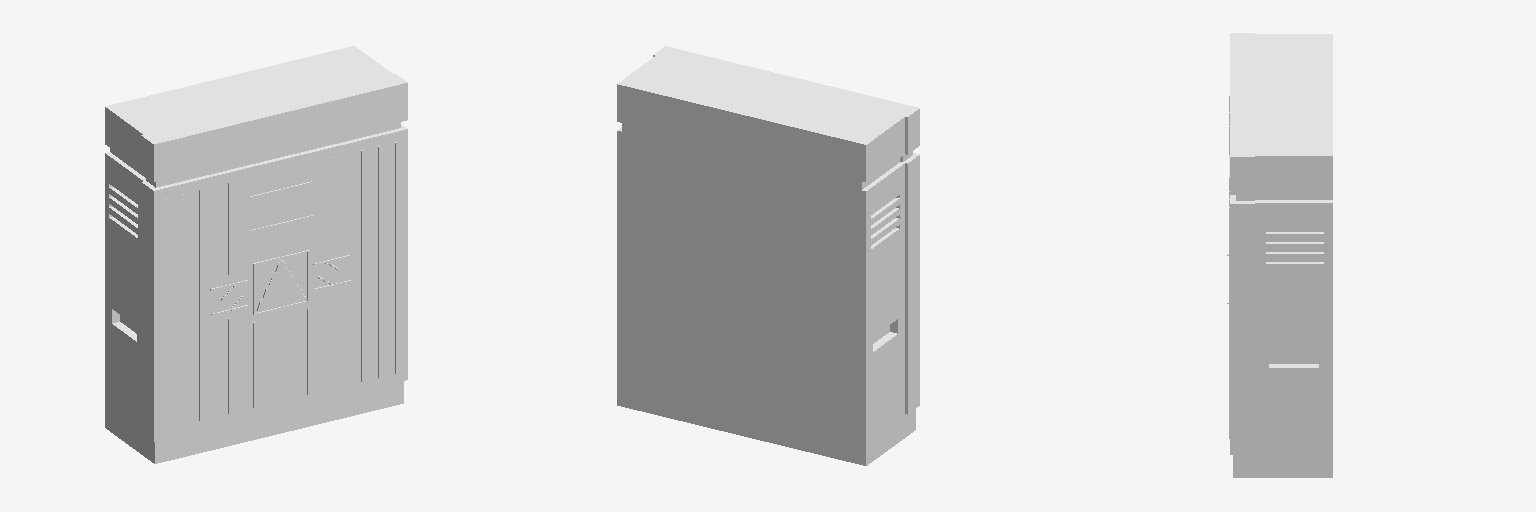
Rendered from Disjuntor1.obj.
3 renders of one model, left to right at view 1: azimuth 30°, elevation 25°; view 2: azimuth 150°, elevation 25°; view 3: azimuth 270°, elevation 25°, orthographic.
Parts seen in each view (by area): view 1: object 1; view 2: object 1; view 3: object 1.
Boxes of the visible parts, x1=… form: object 1: x1=105, y1=46, x2=407, y2=463; object 1: x1=617, y1=46, x2=919, y2=465; object 1: x1=1227, y1=33, x2=1332, y2=477.
Bounding box in the file's own units: 21.2 × 25.6 × 7.6.